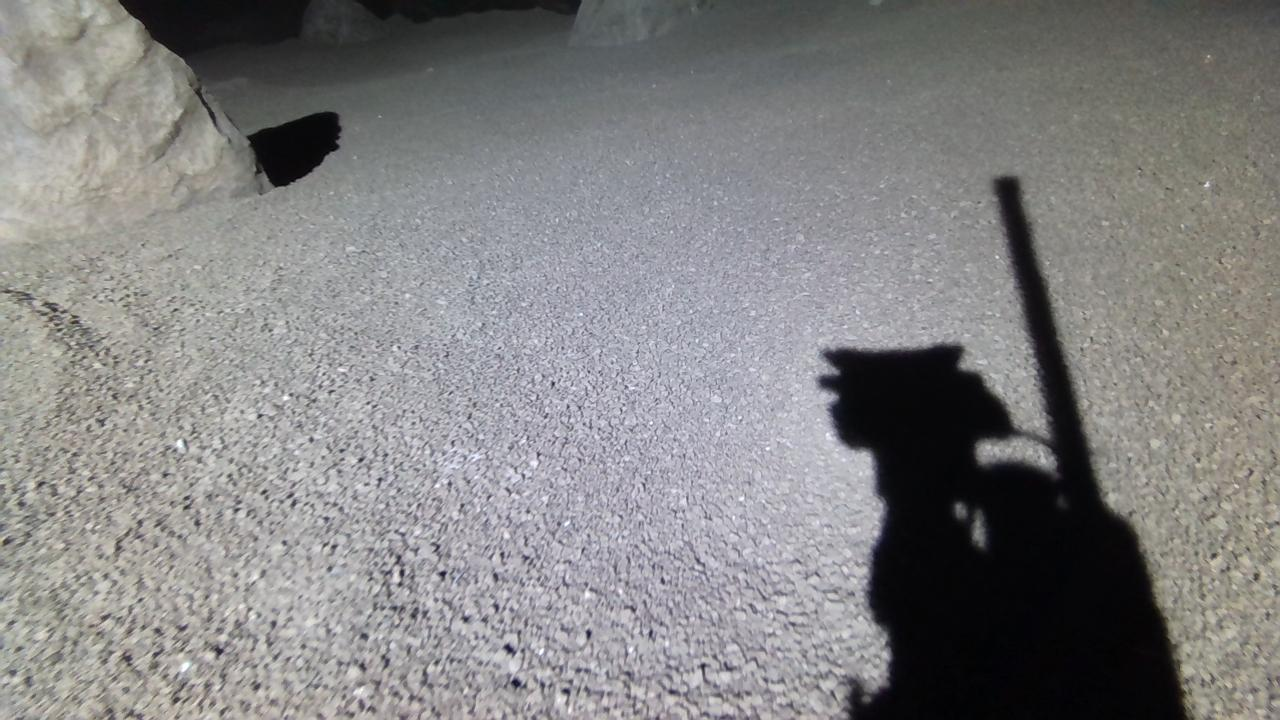rock: (0, 0, 270, 244), (569, 0, 709, 44), (299, 0, 385, 42)
